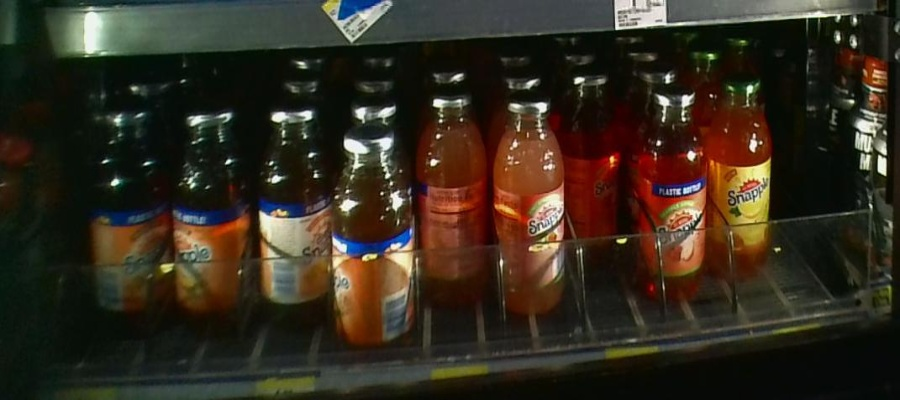bottle: (333, 122, 416, 356), (171, 105, 251, 332), (92, 107, 166, 329), (255, 105, 328, 326), (494, 102, 567, 316), (639, 87, 708, 294), (417, 94, 488, 291), (712, 76, 773, 287), (566, 62, 627, 246)
